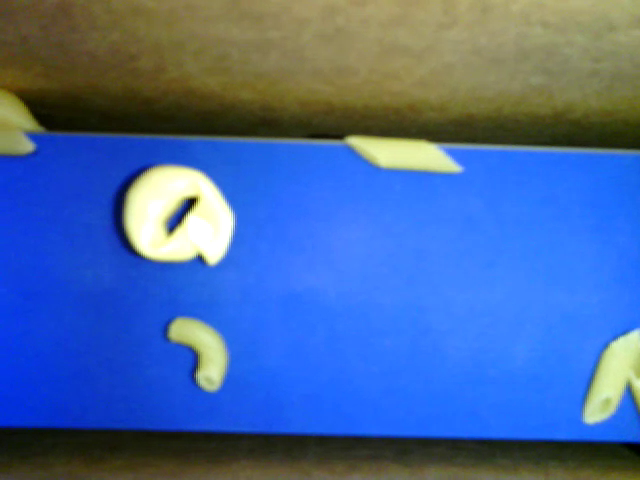elbow: (167, 314, 227, 390)
penne: (583, 325, 639, 425), (342, 133, 465, 175), (627, 356, 639, 430)
shell: (1, 90, 50, 134), (1, 123, 36, 157)
tortellini: (120, 164, 235, 267)
